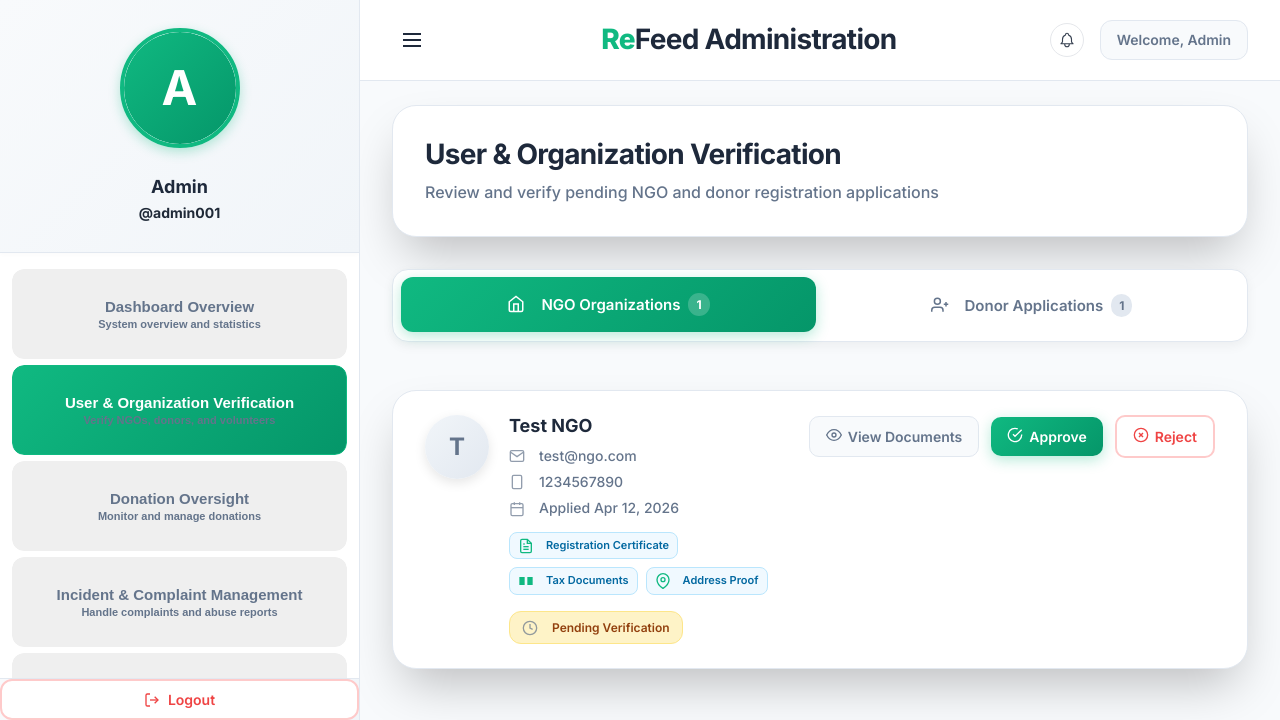
Admin User Verification - E2E Tests › Donor Verification › should display pending donors
Click the button "Donor Applications 1": (1032, 306) [824,278,1239,333]
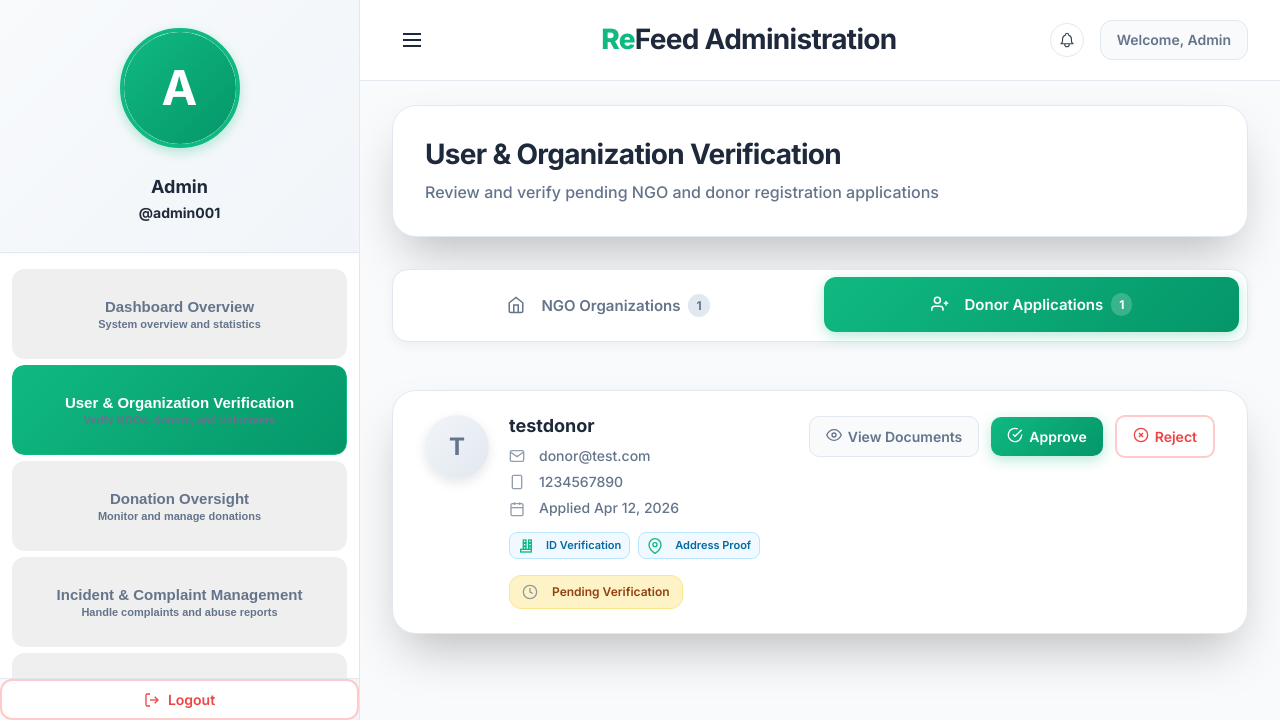
Check: the number of list items with class "admin-verification-item" is 1, box [393,391,1247,633]
Check: the text with class "admin-verification-item" reads "testdonor", box [509,415,595,436]
